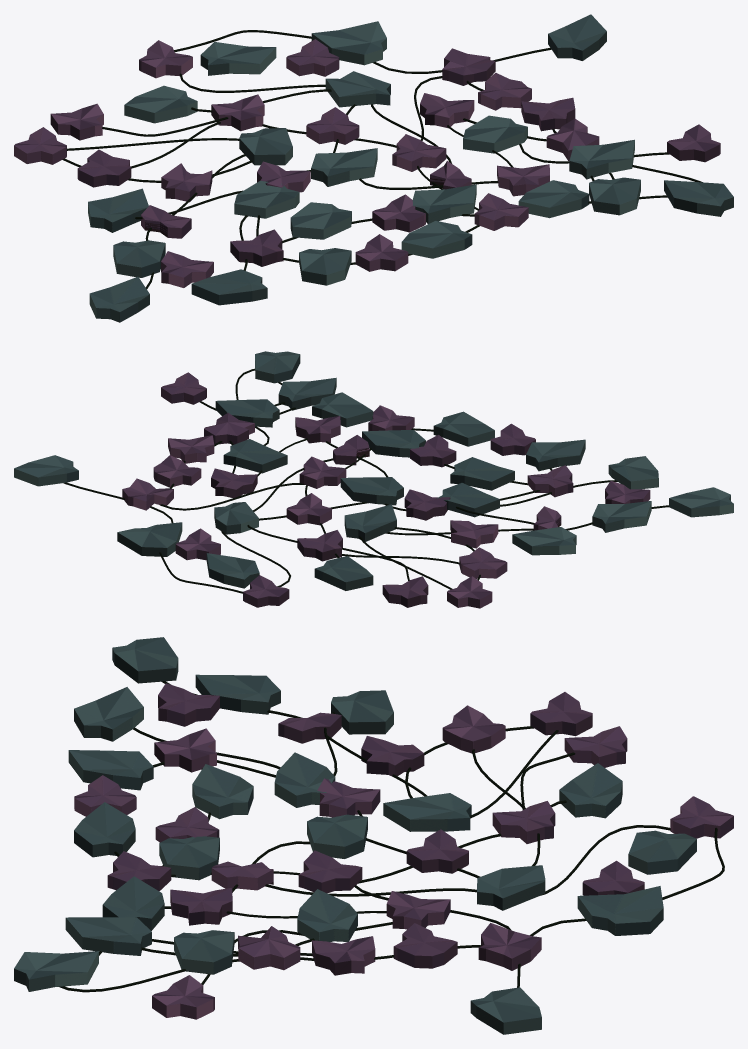
The model's file is LIANE2.obj.
The picture shows the model from 3 angles, top to bottom: view 1: azimuth 30°, elevation 25°; view 2: azimuth 150°, elevation 25°; view 3: azimuth 270°, elevation 25°; orthographic projection. The views are drawn at different scales.
Parts seen in each view (by area): view 1: LIANE2; view 2: LIANE2; view 3: LIANE2.
Boxes of the visible parts, bbox=[...] form: LIANE2: bbox=[14, 14, 733, 322]; LIANE2: bbox=[14, 351, 733, 608]; LIANE2: bbox=[14, 637, 733, 1034].
Size of the model in its own units: 0.6792 by 0.0172 by 0.5394.
3 materials, 2 textured.
